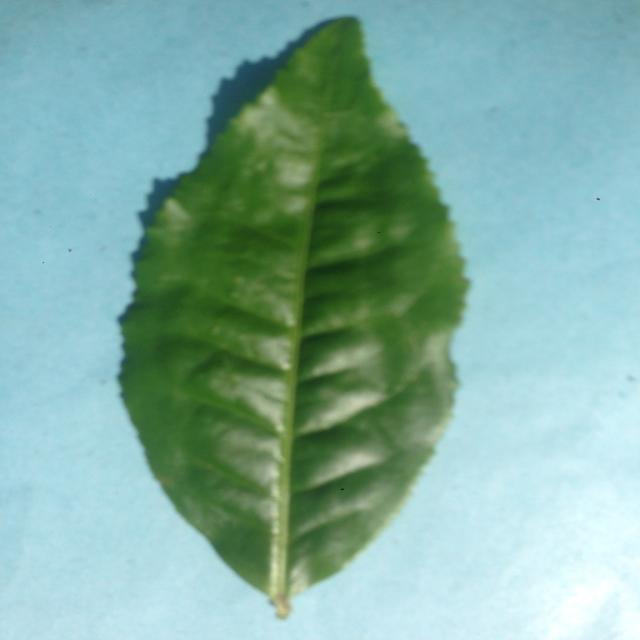Healthy: (101, 17, 487, 627)
